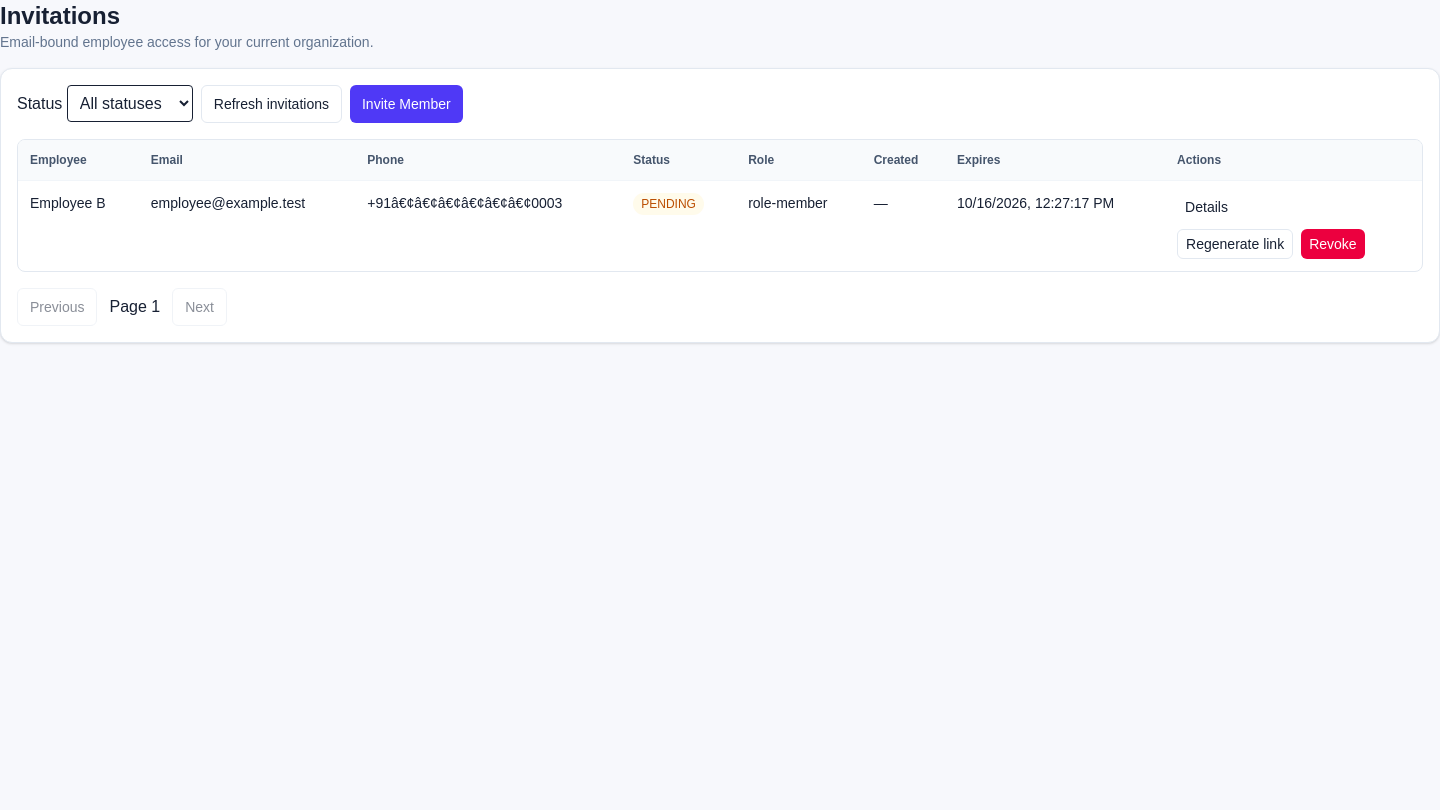
Test case: requires revoke confirmation and refreshes the server status
The width and height of the screenshot is (1440, 810).
Click the button "Revoke".
click(1333, 244)  # box [1301, 229, 1365, 259]
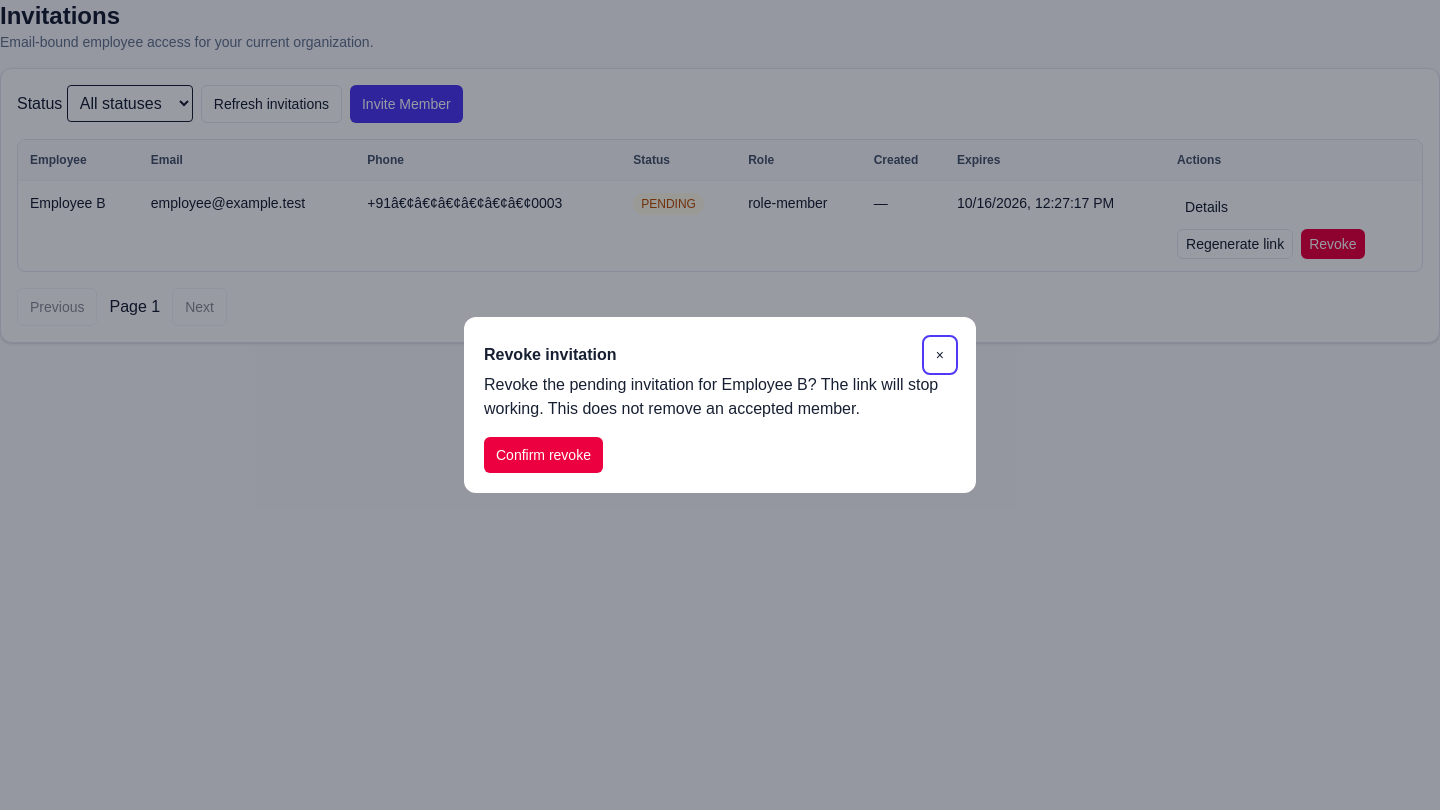
Click the button "Confirm revoke".
click(543, 455)  # box [484, 437, 603, 473]
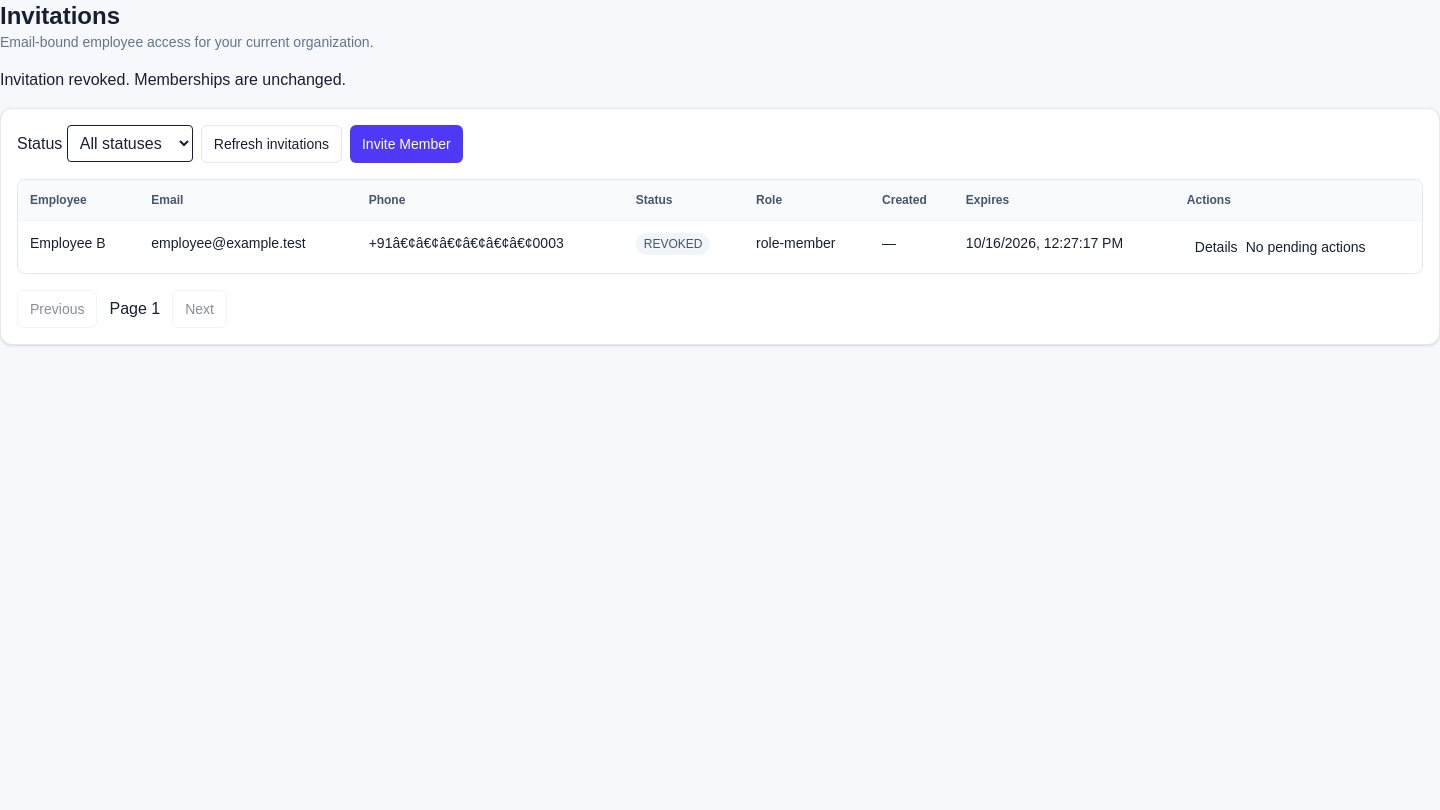
Expected: the cell "REVOKED" is shown, [624, 220, 744, 273]
Expected: the button "Regenerate link" is gone
